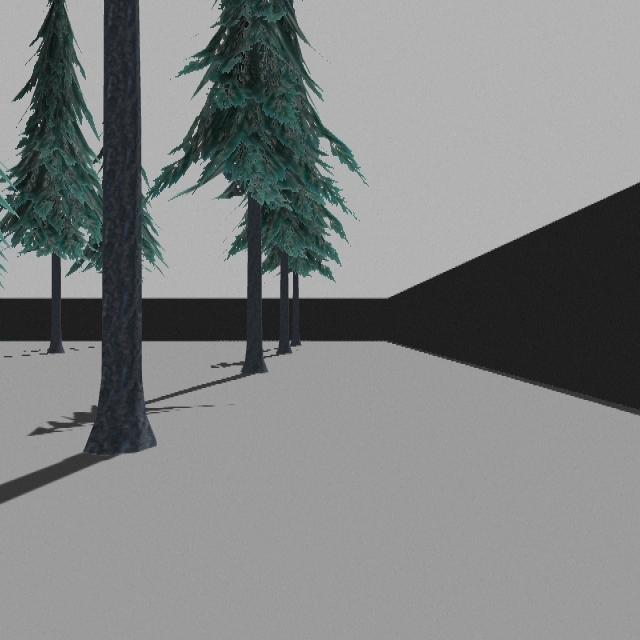tree: (143, 0, 366, 376), (82, 0, 157, 463)
